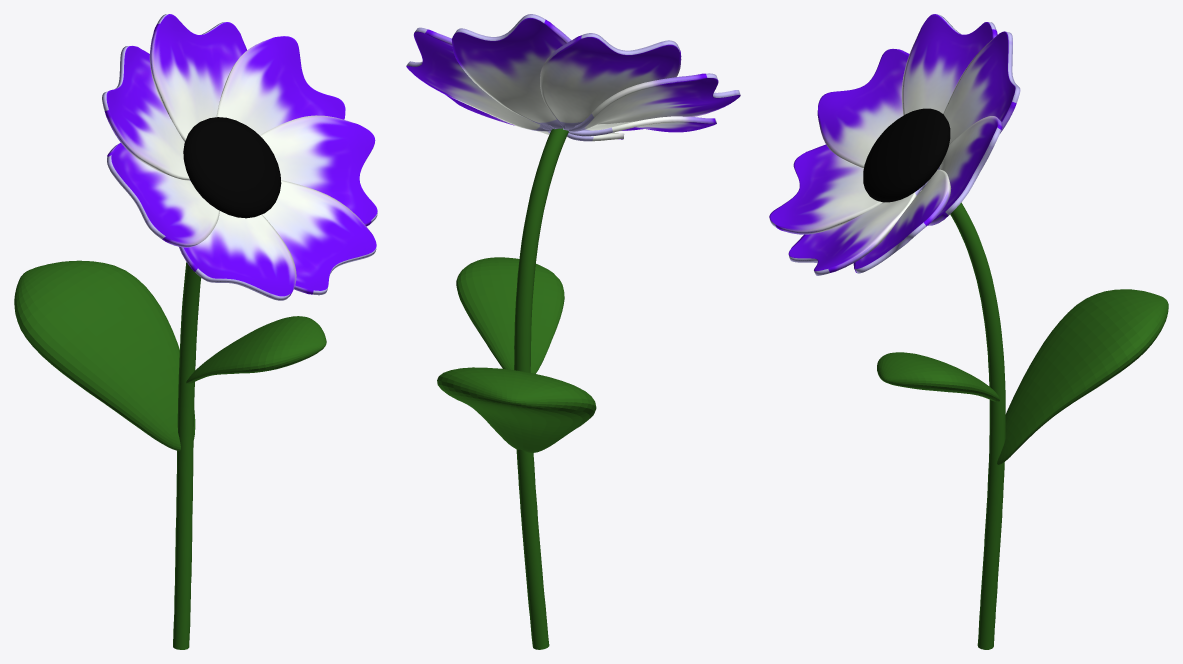
3 views of the same model, side by side, from view 1: azimuth 30°, elevation 25°; view 2: azimuth 150°, elevation 25°; view 3: azimuth 270°, elevation 25° (orthographic). The views are drawn at different scales.
Visible parts, largest first — view 1: f20; view 2: f20; view 3: f20.
Boxes of the visible parts, x1,y1,x2,y2 form: f20: [14, 14, 377, 649]; f20: [406, 14, 740, 649]; f20: [769, 14, 1168, 649].
Size of the model in its own units: 0.4305 by 0.9198 by 0.5432.
4 materials, 2 textured.
